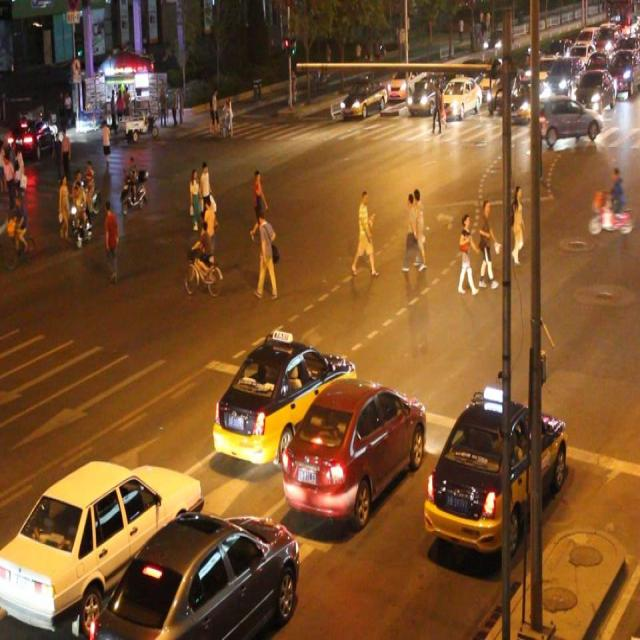car: (1, 461, 204, 628), (92, 513, 300, 640), (426, 394, 567, 553), (280, 378, 426, 520), (210, 332, 356, 466), (527, 94, 601, 144), (339, 75, 386, 119), (438, 74, 479, 118), (404, 71, 444, 110)
